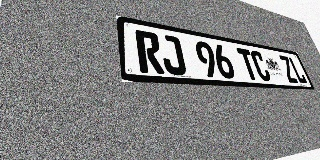6: (211, 43, 237, 79)
9: (194, 40, 220, 78)
C: (249, 50, 272, 81)
J: (159, 34, 187, 76)
L: (288, 57, 308, 84)
R: (135, 30, 165, 74)
T: (236, 48, 260, 81)
Z: (278, 55, 299, 83)
